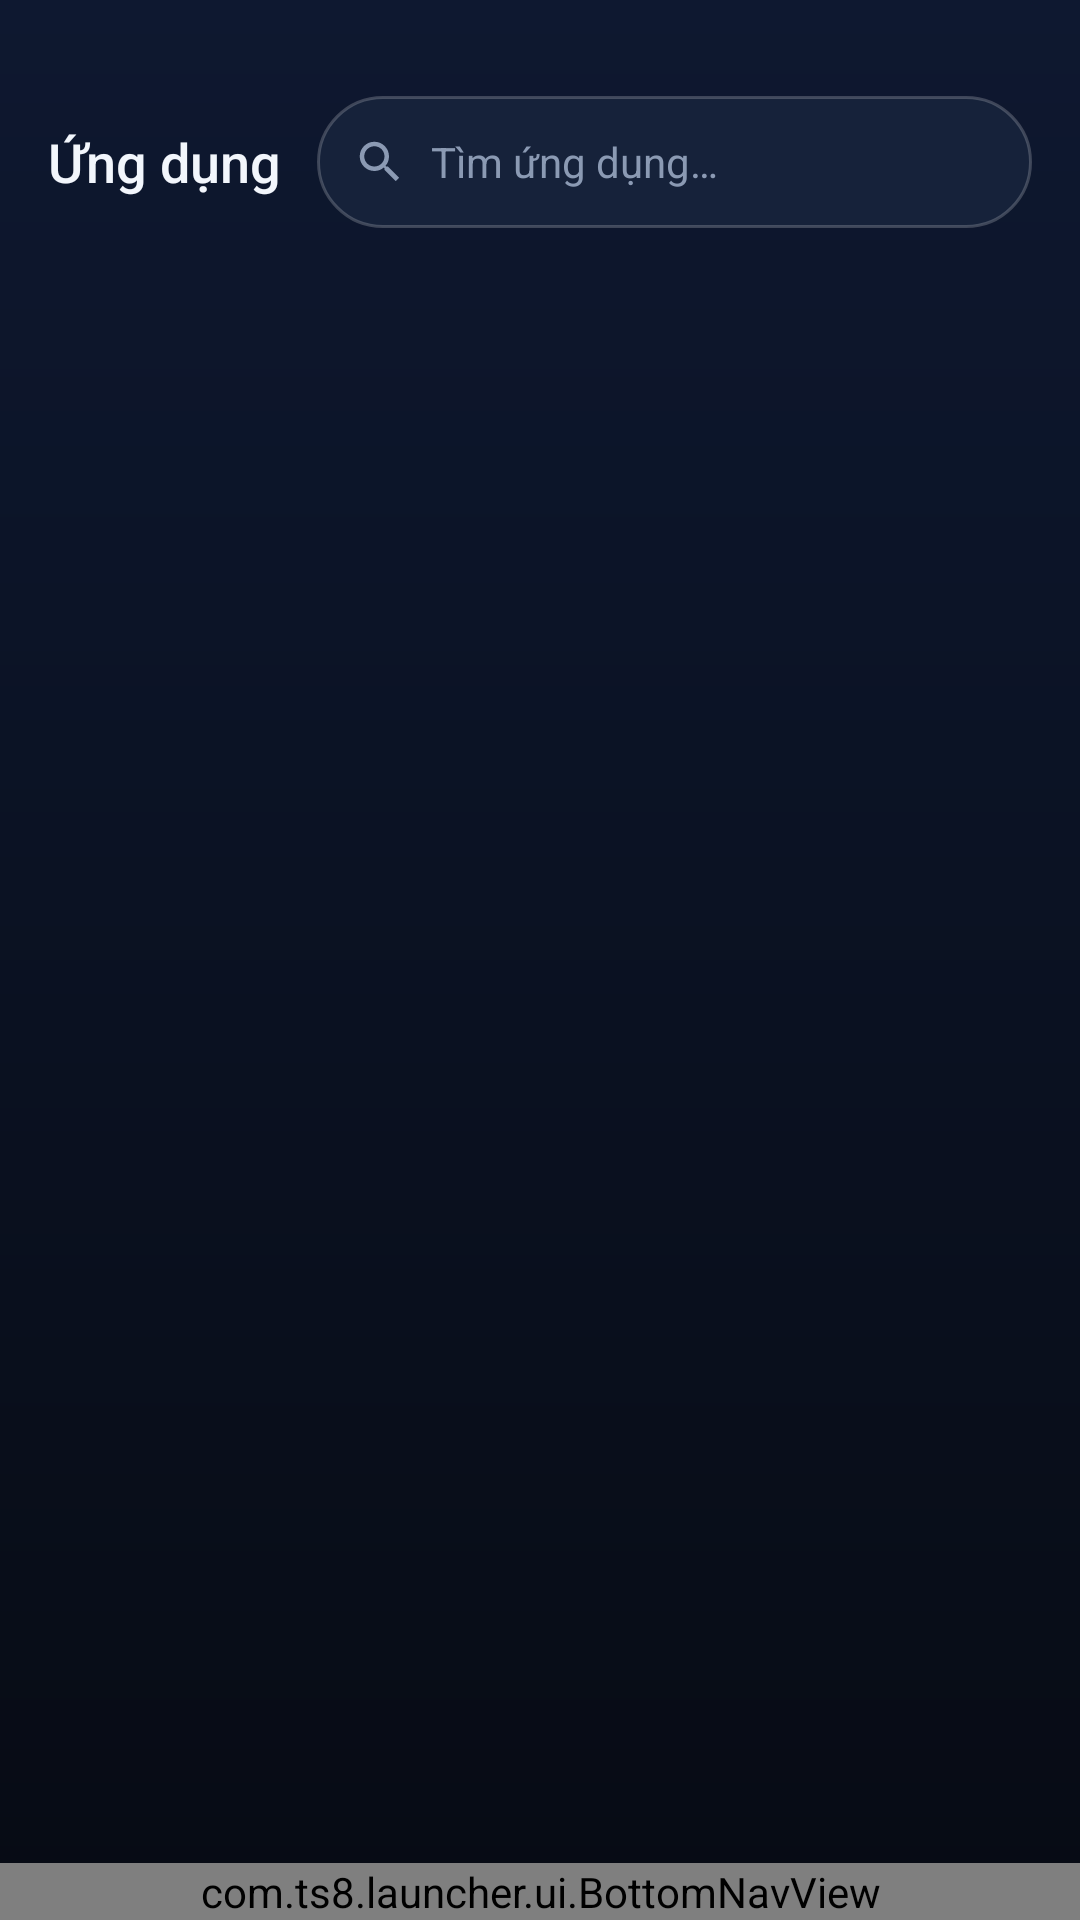

Icon click points for this 1080 x 1920 phone screenshot, format [x,y]:
search: [379,161]
